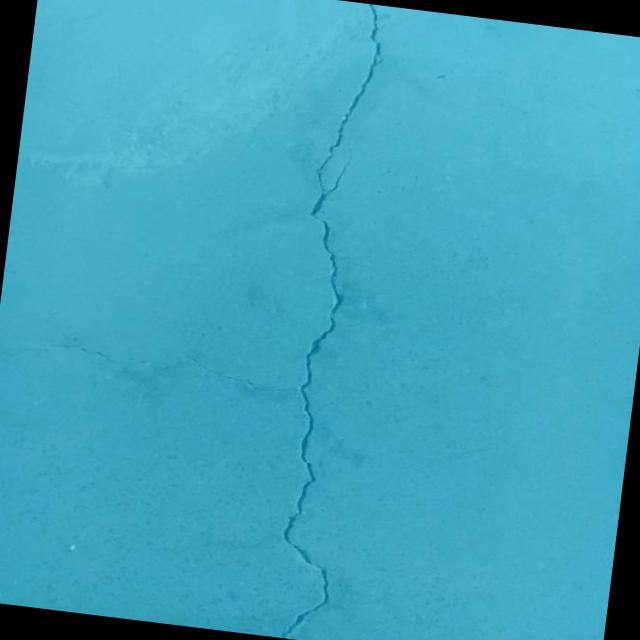crack: (108, 0, 402, 640), (58, 342, 128, 368)
